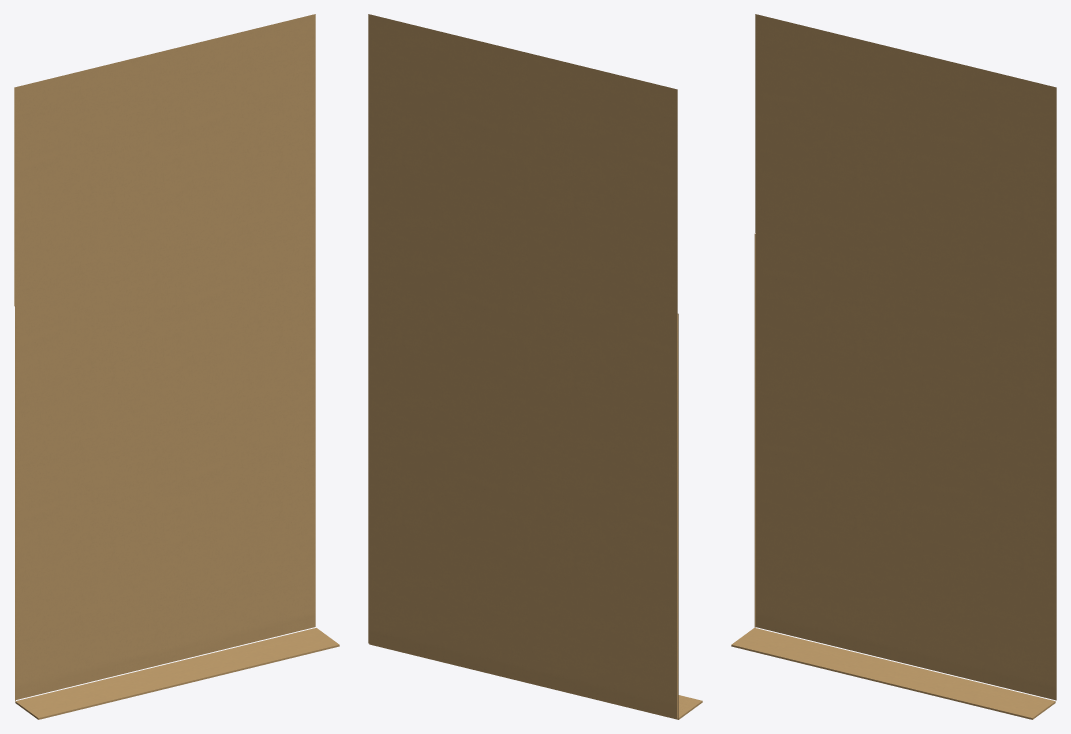
Rendered from dyers-alley-receivers-link-south-east.glb.
3 views of the same model, side by side, from view 1: azimuth 30°, elevation 25°; view 2: azimuth 150°, elevation 25°; view 3: azimuth 330°, elevation 25° (orthographic). The views are drawn at different scales.
Parts seen in each view (by area): view 1: bz06_faded_ochre-cast; view 2: bz06_faded_ochre-cast; view 3: bz06_faded_ochre-cast.
Boxes of the visible parts, x1,y1,x2,y2 form: bz06_faded_ochre-cast: (14, 14, 339, 719); bz06_faded_ochre-cast: (368, 14, 702, 719); bz06_faded_ochre-cast: (731, 14, 1056, 719).
Size of the model in its own units: 3.6 by 7.02 by 0.5.
1 material, 1 textured.
